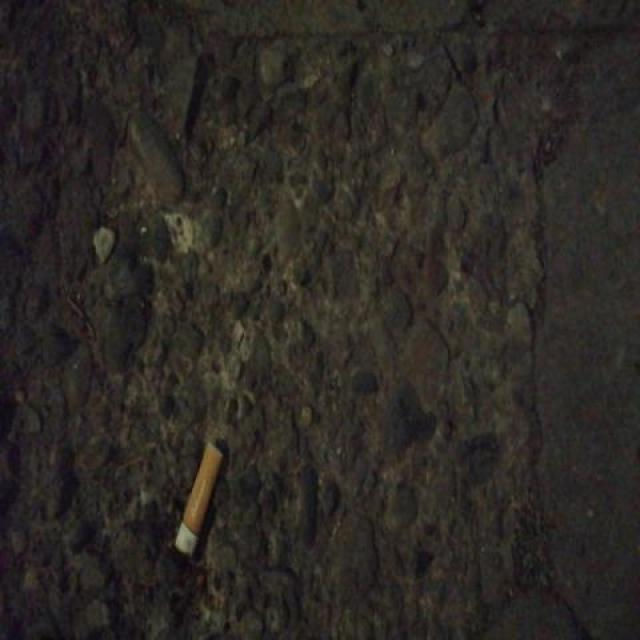non-organic waste: (171, 436, 225, 560)
